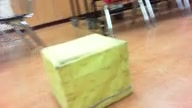cube: (41, 33, 132, 108)
